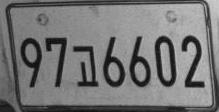0: (154, 35, 177, 87)
2: (180, 34, 205, 88)
6: (102, 36, 126, 88), (129, 36, 151, 87)
7: (44, 36, 67, 87)
9: (19, 37, 43, 87)
고: (72, 45, 99, 87)
